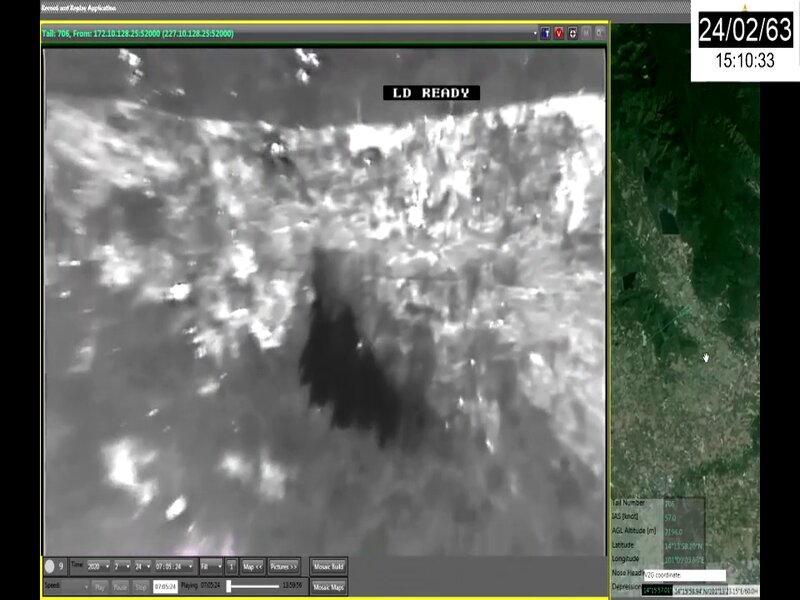Fire: (349, 92, 604, 232)
